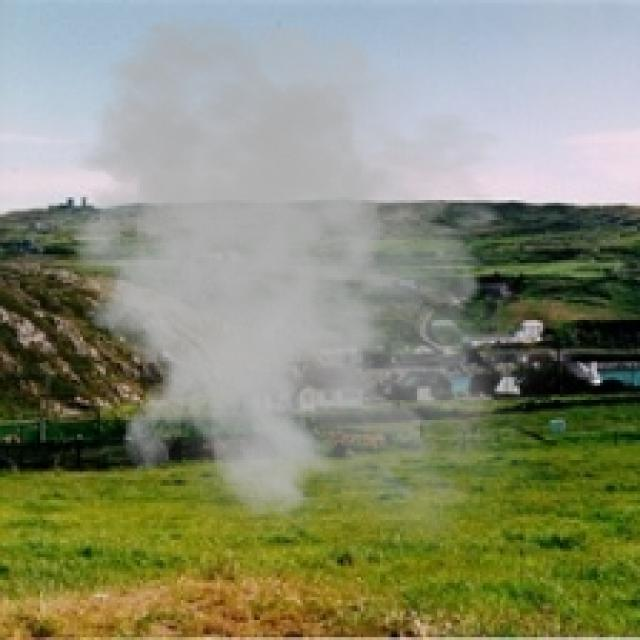Smoke: (37, 14, 563, 569)
